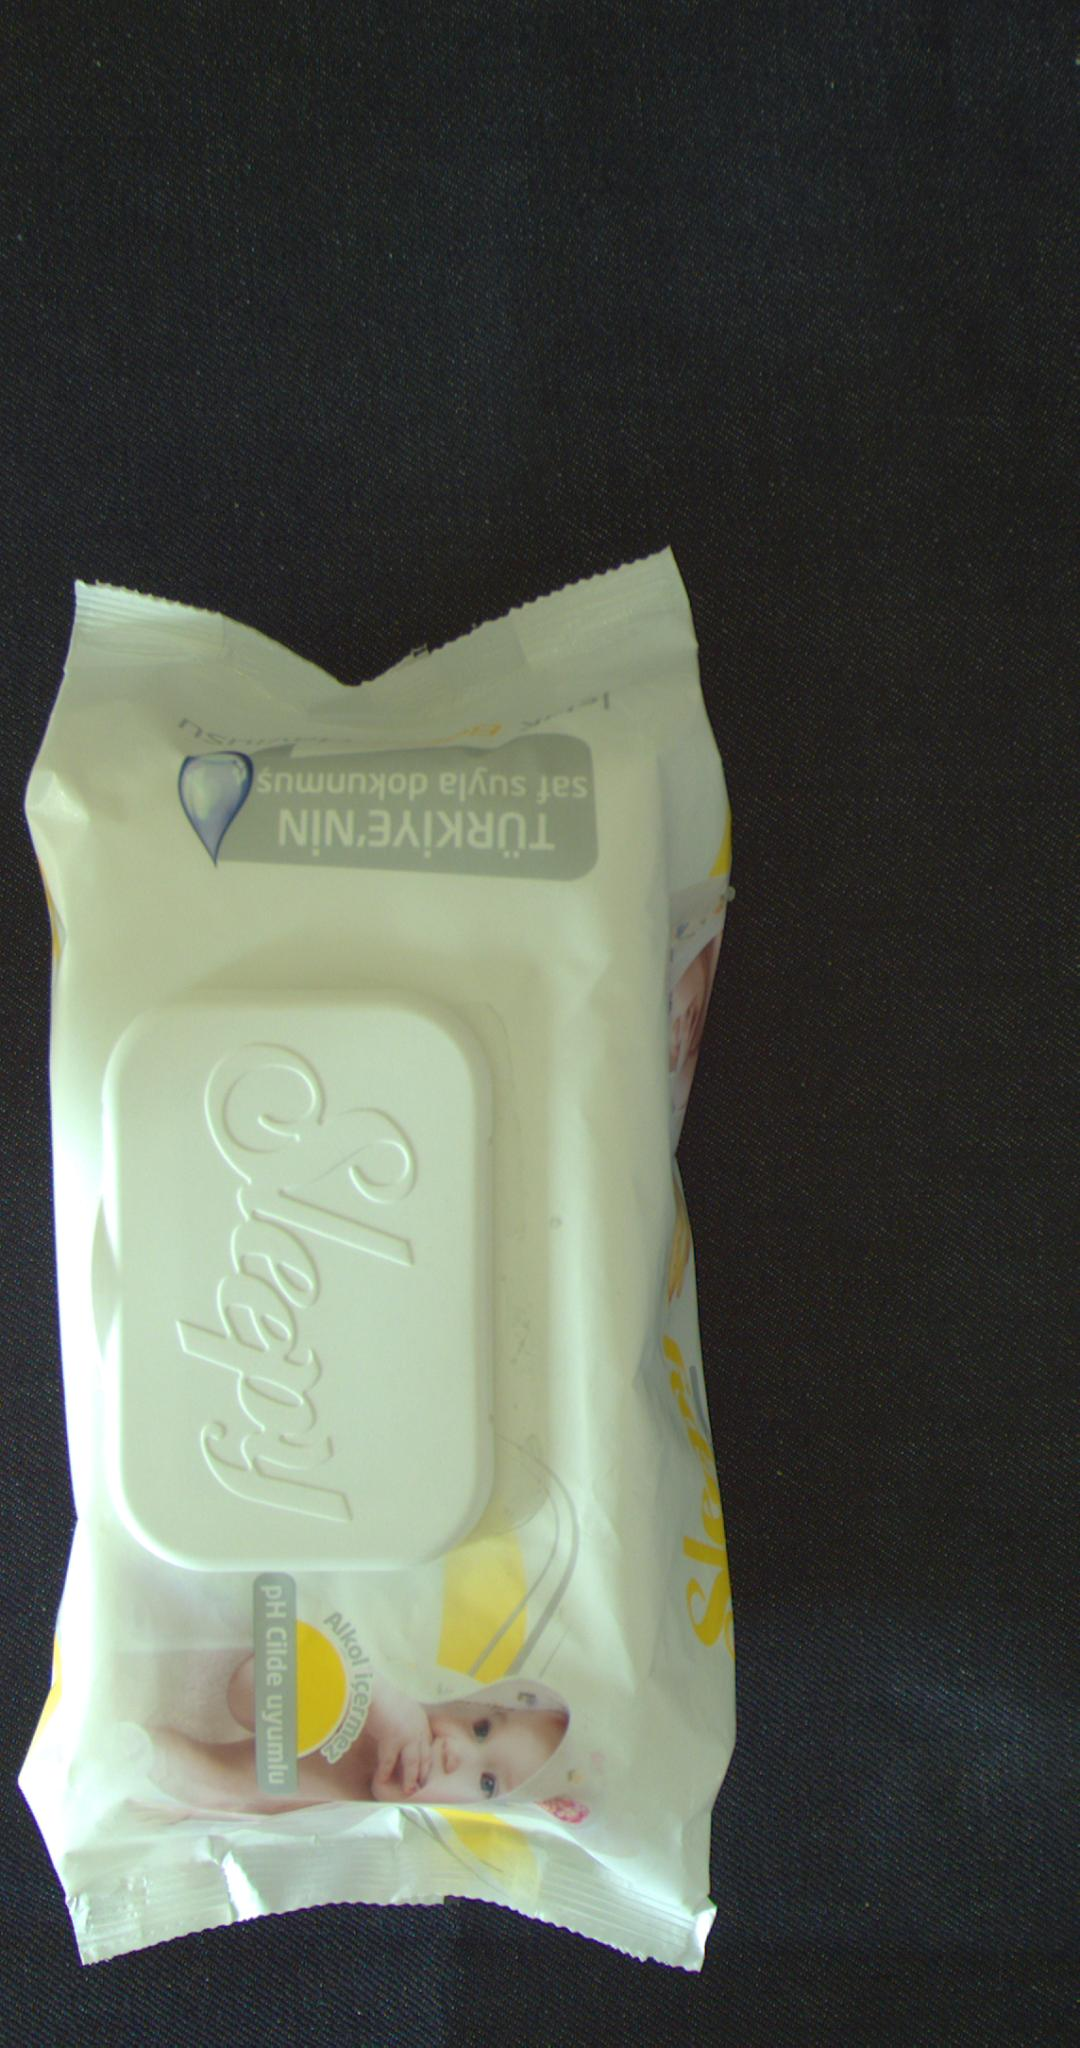kapak: (91, 1008, 503, 1562)
